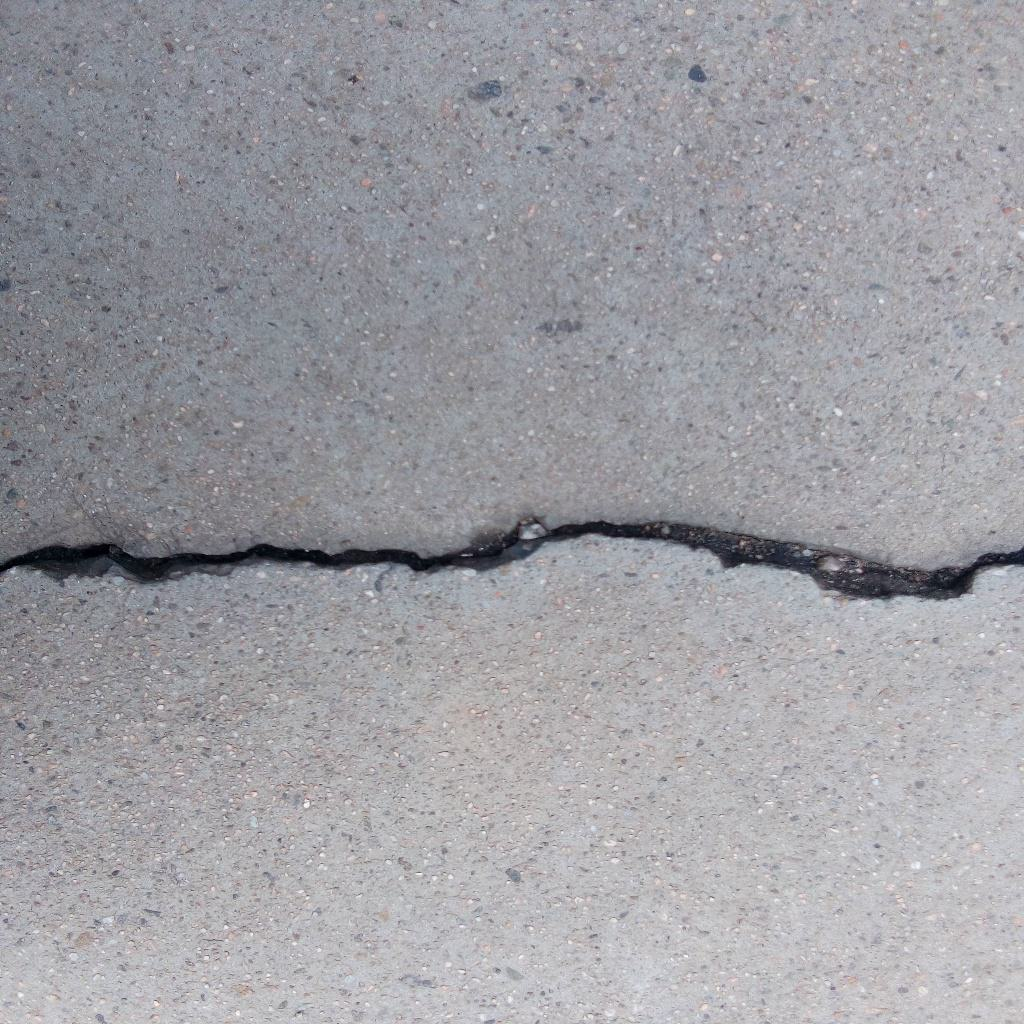Crack: (1, 516, 1024, 604)
